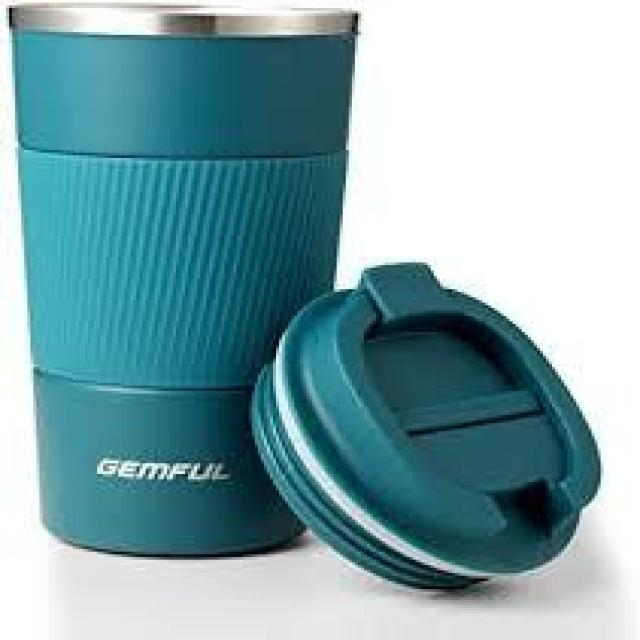bottle: (8, 4, 360, 561)
